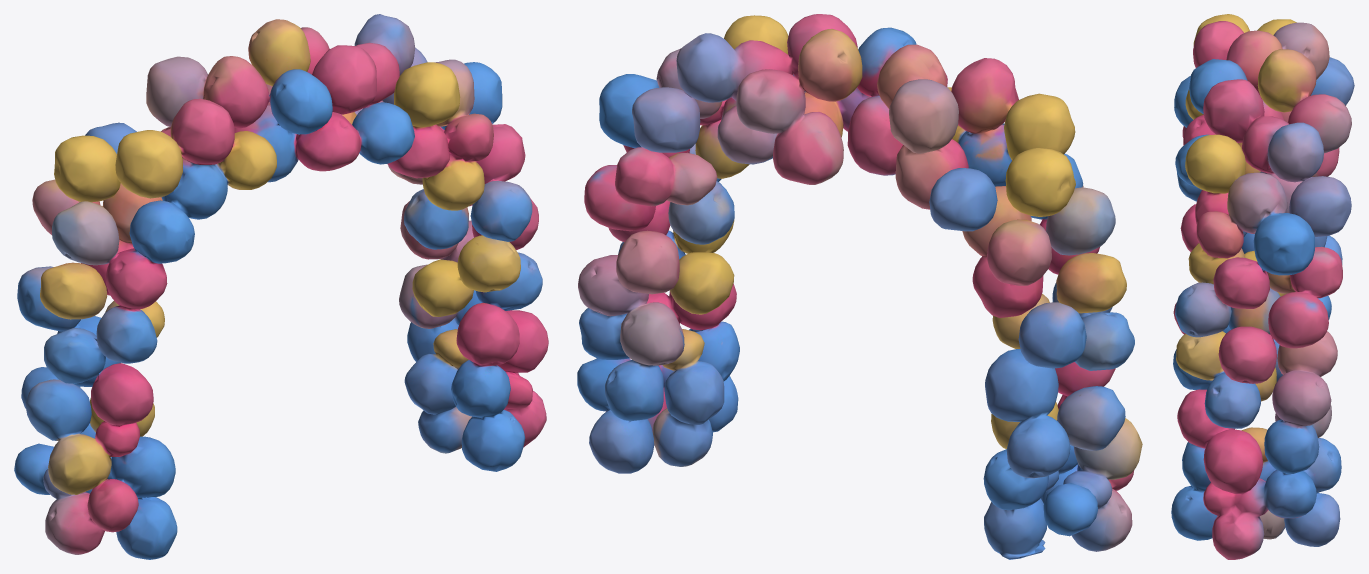
The model's file is festa_baloes.glb.
3 views of the same model, side by side, from view 1: azimuth 30°, elevation 25°; view 2: azimuth 150°, elevation 25°; view 3: azimuth 270°, elevation 25° (orthographic). The views are drawn at different scales.
Parts seen in each view (by area): view 1: tripo_node_ebfad098-41ea-48b8-aa10-7be6bbb9fbfd; view 2: tripo_node_ebfad098-41ea-48b8-aa10-7be6bbb9fbfd; view 3: tripo_node_ebfad098-41ea-48b8-aa10-7be6bbb9fbfd.
Part boxes in pixels (bbox=[...]): tripo_node_ebfad098-41ea-48b8-aa10-7be6bbb9fbfd: bbox=[14, 14, 548, 559]; tripo_node_ebfad098-41ea-48b8-aa10-7be6bbb9fbfd: bbox=[577, 14, 1142, 559]; tripo_node_ebfad098-41ea-48b8-aa10-7be6bbb9fbfd: bbox=[1171, 14, 1354, 559].
Bounding box in the file's own units: 0.9797 × 0.8534 × 0.3395.
Materials: 1 (1 with a texture image).
